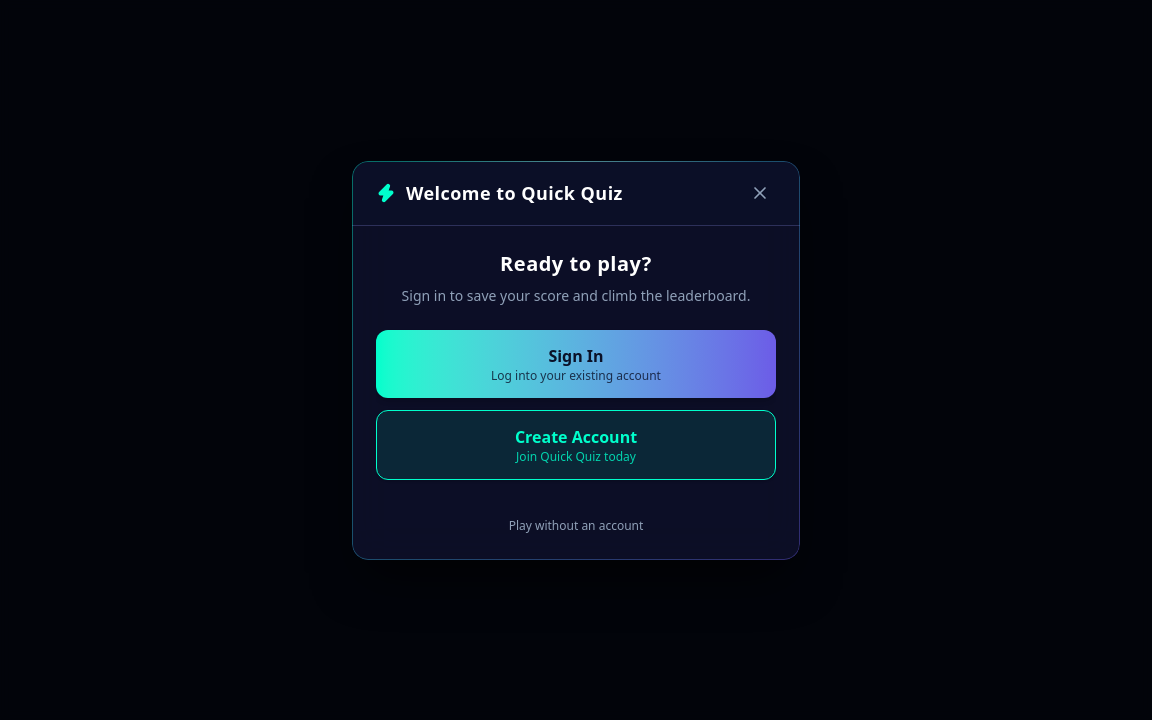
Test: AuthPopup › navigates to register method tabs when Create Account is clicked
Click the button "Create Account Join Quick Quiz today". click: (576, 444)
box: [376,410,776,480]
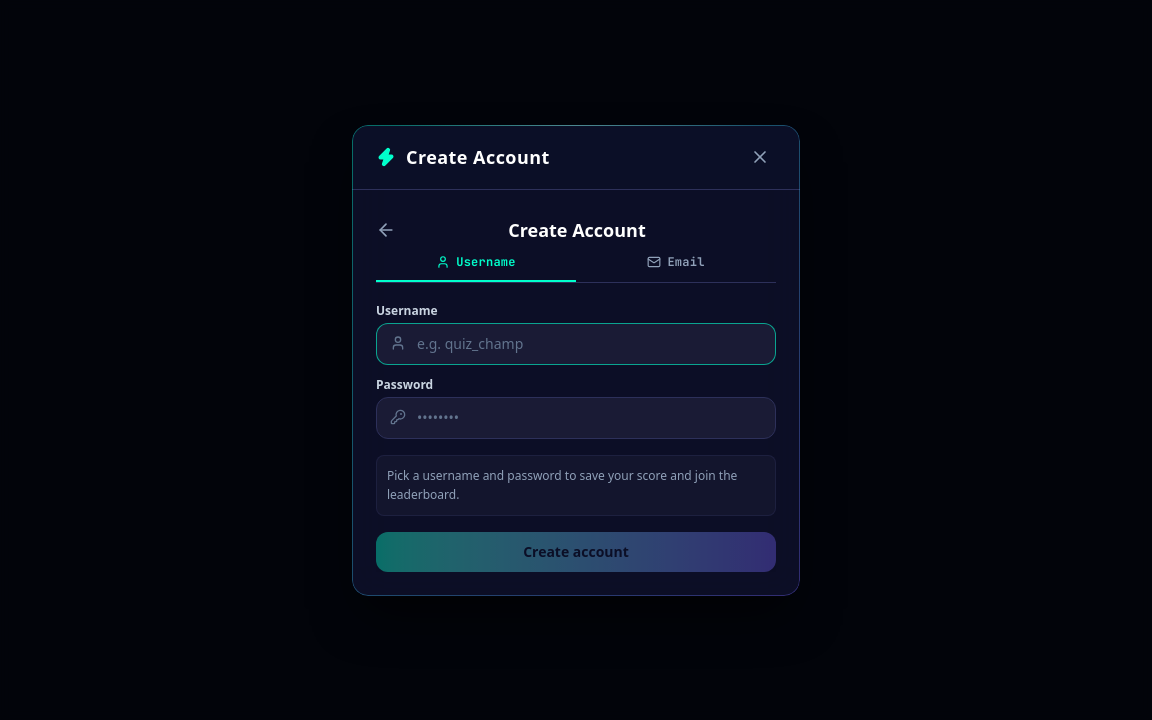
Expected: the 1st heading "Create Account" is shown, [406,142,550,170]
